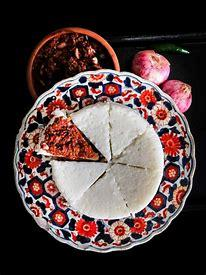Kiribath: (40, 96, 170, 231)
Lunu sambol: (43, 113, 84, 160)
